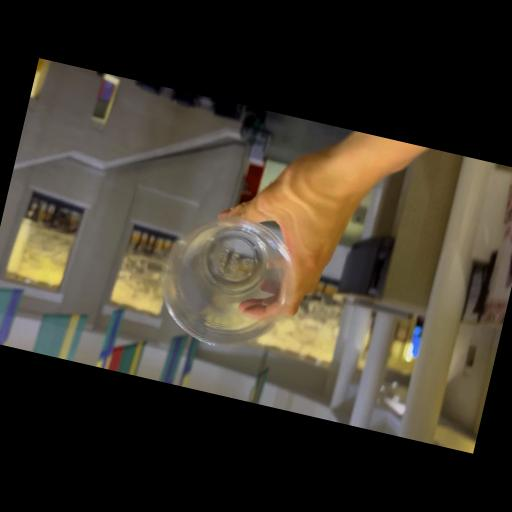lp_plastic_cup: (154, 204, 302, 356)
